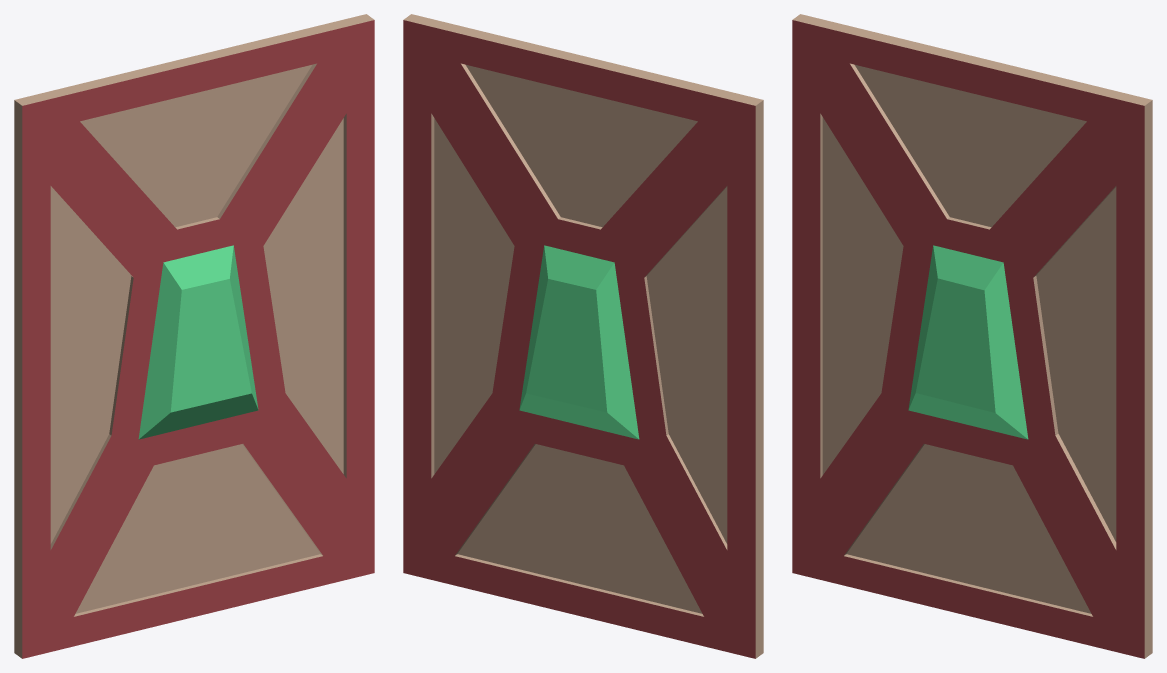
Rendered from Door.fbx.
3 renders of one model, left to right at view 1: azimuth 30°, elevation 25°; view 2: azimuth 150°, elevation 25°; view 3: azimuth 330°, elevation 25°, orthographic.
Visible parts, largest first — view 1: Cube; view 2: Cube; view 3: Cube.
Part boxes in pixels (box(x1,y1,x2,y2)): Cube: box(14, 14, 374, 658); Cube: box(403, 14, 763, 658); Cube: box(792, 14, 1152, 658).
Size of the model in its own units: 2500 by 3750 by 422.
